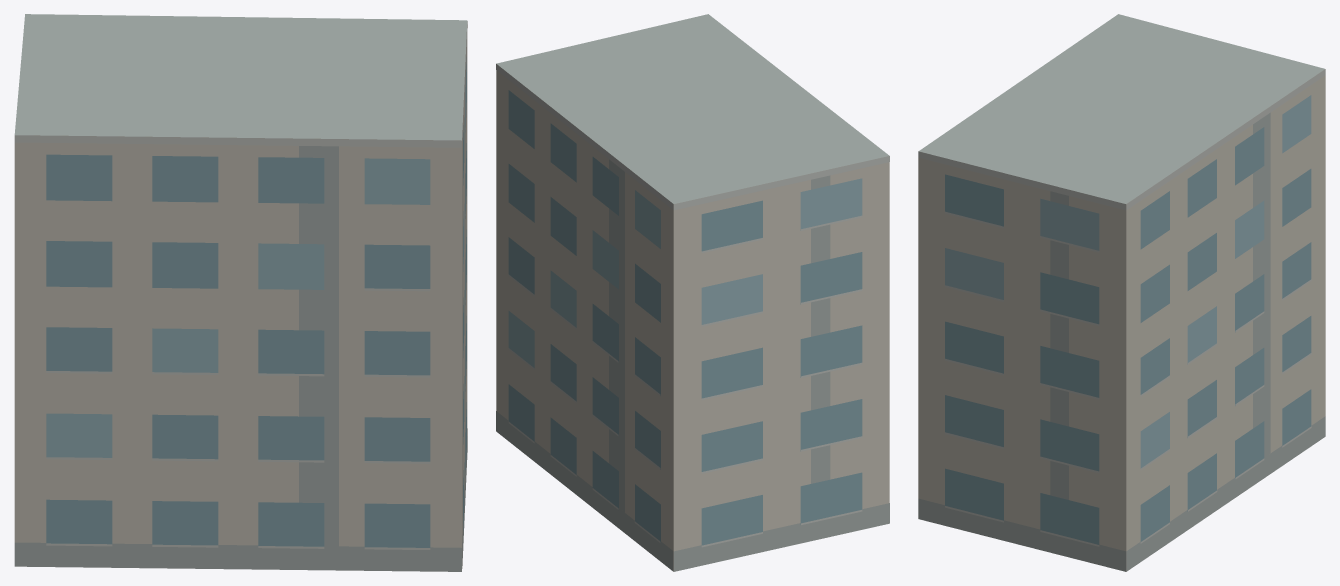
Rendered from survey-upis-32887661.glb.
3 renders of one model, left to right at view 1: azimuth 30°, elevation 25°; view 2: azimuth 150°, elevation 25°; view 3: azimuth 270°, elevation 25°, orthographic. The views are drawn at different scales.
Visible parts, largest first — view 1: survey-upis-32887661.tmp; view 2: survey-upis-32887661.tmp; view 3: survey-upis-32887661.tmp.
Boxes of the visible parts, x1,y1,x2,y2 form: survey-upis-32887661.tmp: [14, 14, 467, 571]; survey-upis-32887661.tmp: [496, 14, 889, 571]; survey-upis-32887661.tmp: [918, 14, 1325, 571].
Size of the model in its own units: 15.87 by 14.3 by 14.36.
